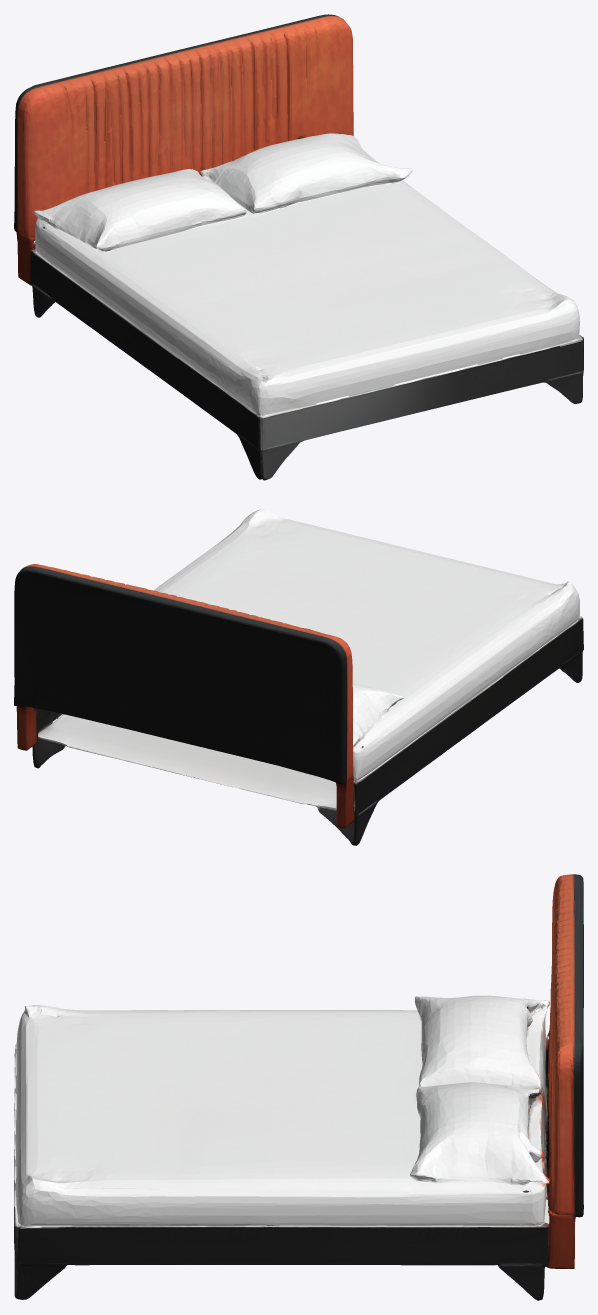
The model's file is 2pics-5.glb.
3 renders of one model, top to bottom at view 1: azimuth 30°, elevation 25°; view 2: azimuth 150°, elevation 25°; view 3: azimuth 270°, elevation 25°, orthographic. The views are drawn at different scales.
Visible parts, largest first — view 1: world; view 2: world; view 3: world.
Boxes of the visible parts, x1=… form: world: x1=14, y1=14, x2=583, y2=480; world: x1=14, y1=509, x2=583, y2=845; world: x1=14, y1=874, x2=583, y2=1300.
Bounding box in the file's own units: 0.7764 × 0.484 × 0.9956.
Materials: 1 (1 with a texture image).
